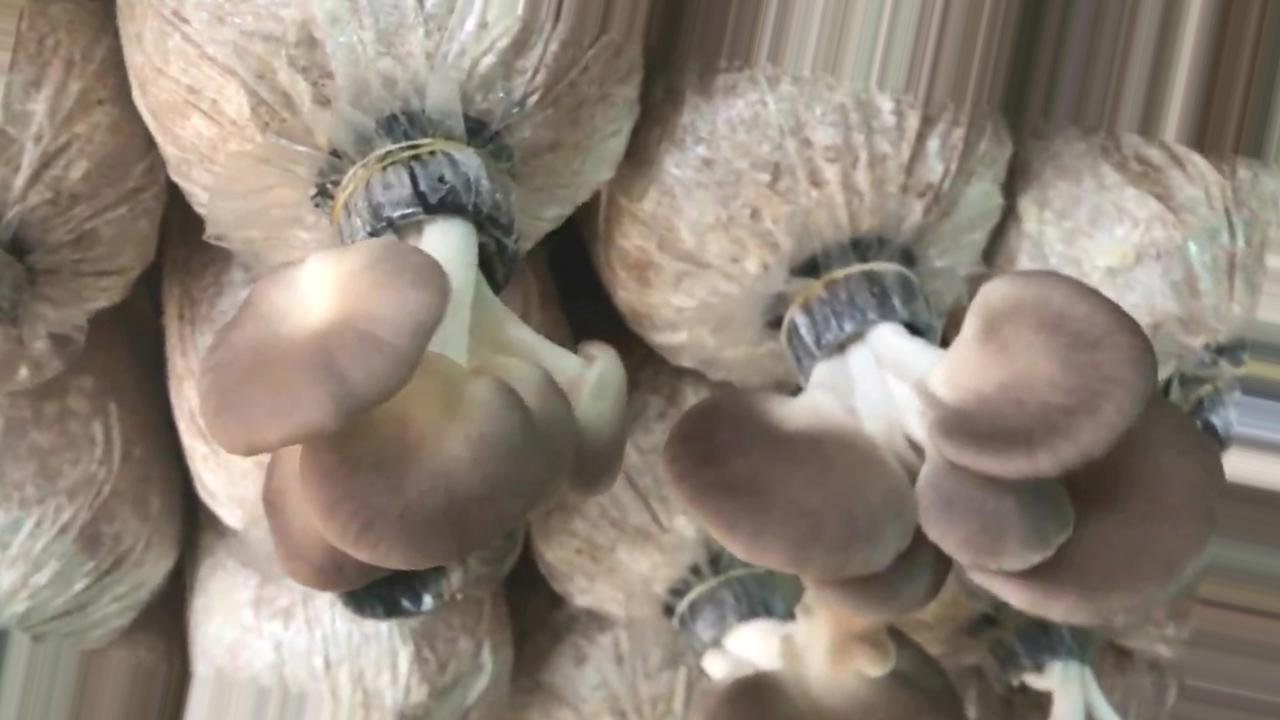nam: (666, 270, 1224, 627), (197, 140, 620, 595), (674, 573, 967, 720)
